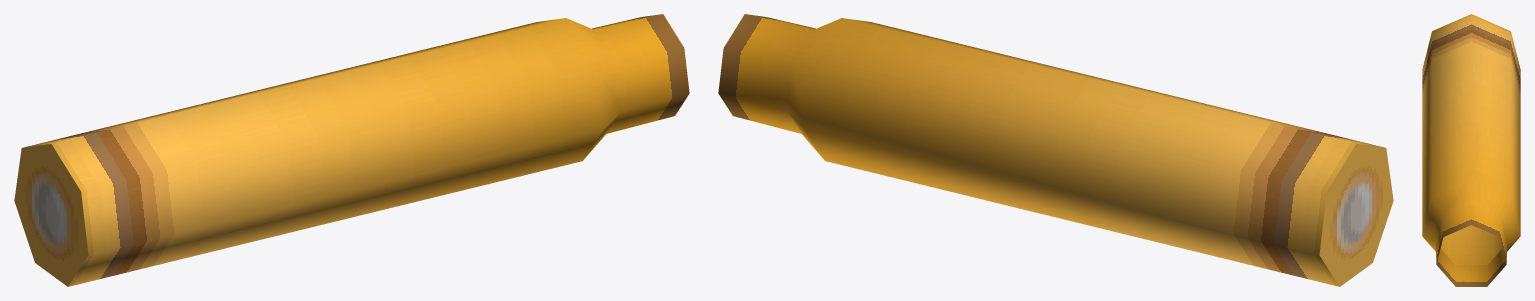
Rendered from 223556Round_Spent.fbx.
3 views of the same model, side by side, from view 1: azimuth 30°, elevation 25°; view 2: azimuth 150°, elevation 25°; view 3: azimuth 270°, elevation 25° (orthographic). The views are drawn at different scales.
Visible parts, largest first — view 1: 223556ammo_spent; view 2: 223556ammo_spent; view 3: 223556ammo_spent.
Boxes of the visible parts, x1,y1,x2,y2 form: 223556ammo_spent: (14,14,689,286); 223556ammo_spent: (718,14,1393,286); 223556ammo_spent: (1422,14,1520,286).
Bounding box in the file's own units: 0.0867 × 0.0178 × 0.0182.
